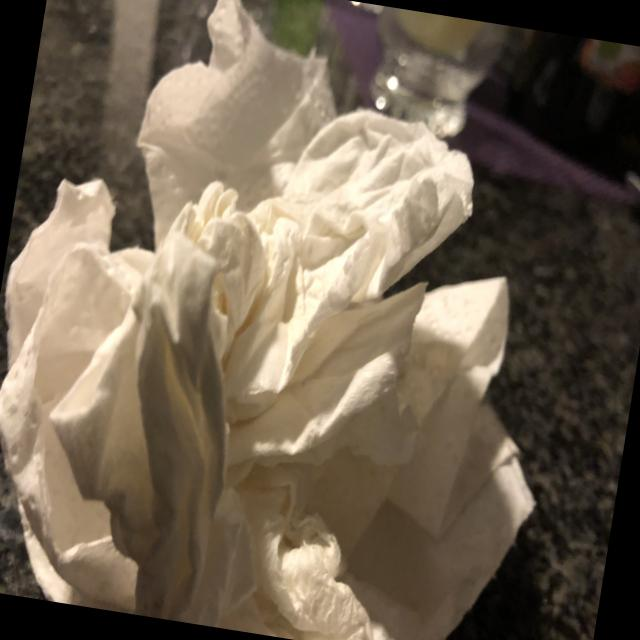organic waste: (188, 240, 564, 640), (0, 165, 312, 632), (132, 75, 490, 450), (113, 0, 365, 281)
